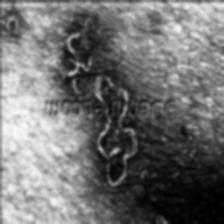Toxin: (0, 8, 22, 40), (149, 202, 172, 224)
